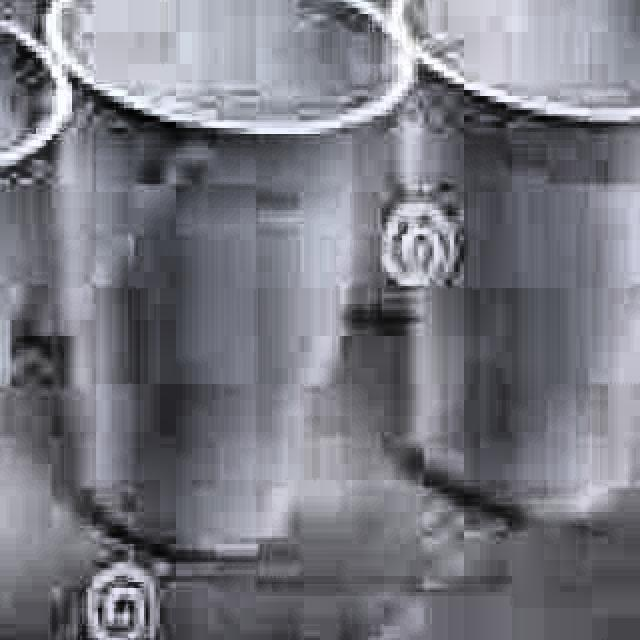paper: (42, 0, 424, 544), (392, 0, 640, 506)
